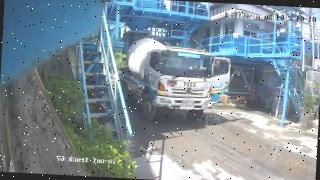cement_mixer_truck: (118, 38, 231, 121)
